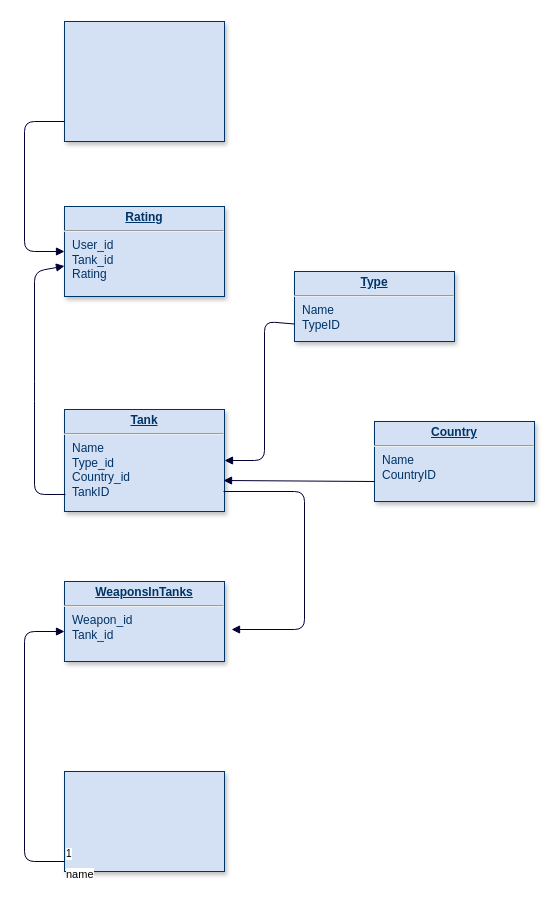
The diagram is 558 pixels wide and 899 high, and some of its shapes have lost their labels. The shapes that lost their labels are listed below. From the top down, each one's centre as x and y in pixels, then its label:
At point (145, 82): "User UserName Password Admin UserID".
At point (145, 822): "Weapon Name Size Year WeaponID".
